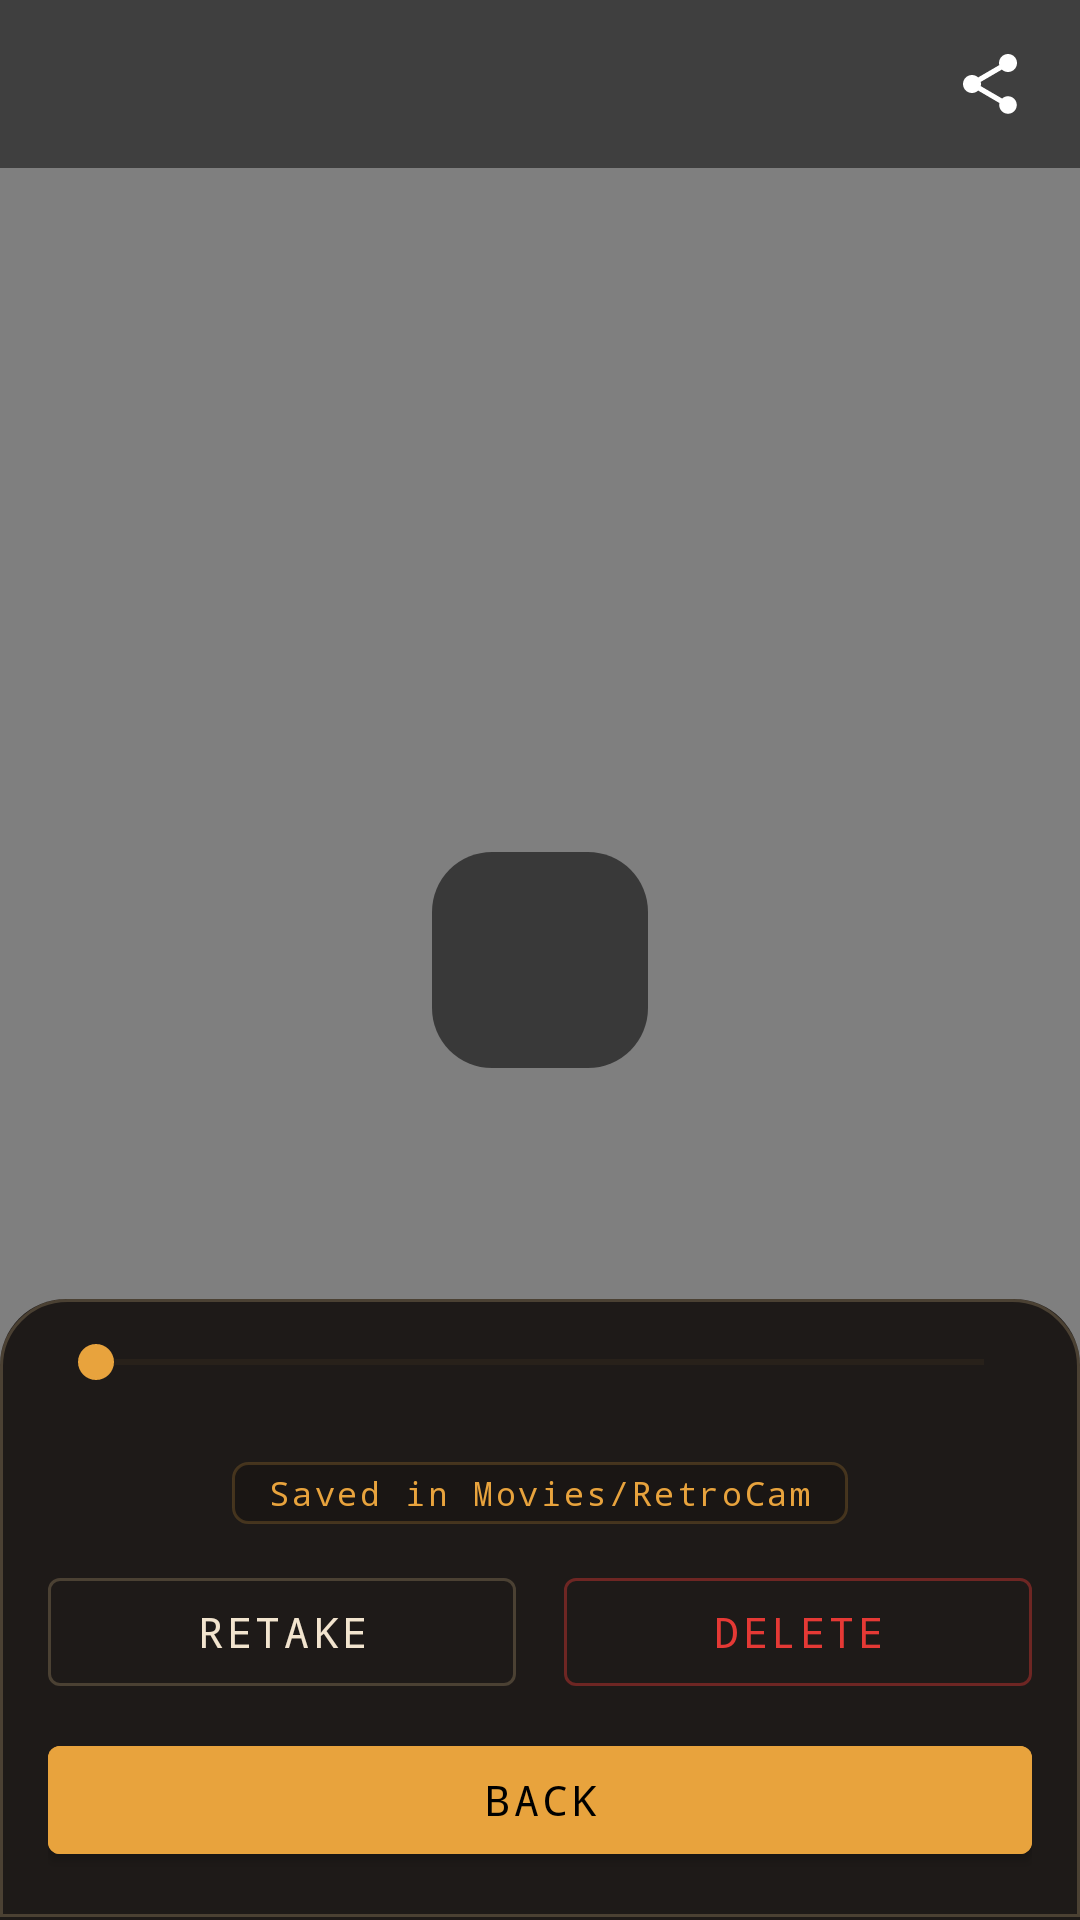

Screen size 1080×1920. Icon name, then its center in pixels as [x,y]:
Share video: [990,84]
